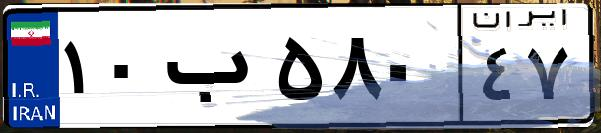0: (385, 28, 445, 110), (110, 28, 158, 98)
1: (57, 26, 110, 100)
4: (475, 38, 525, 113)
5: (270, 28, 330, 110)
7: (525, 38, 570, 115)
8: (330, 28, 385, 110)
ب: (158, 20, 270, 120)
